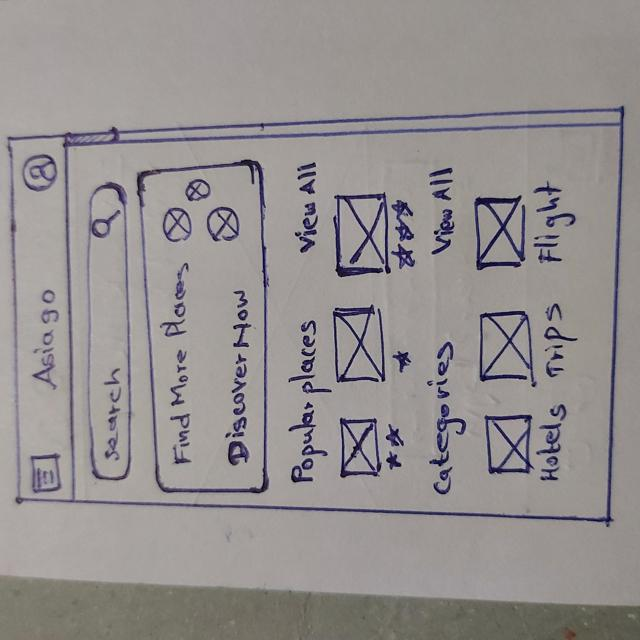ActionButton: (20, 153, 62, 191)
AppBar: (5, 136, 77, 502)
CardView: (136, 161, 269, 496)
DrawerToggleButton: (28, 453, 63, 491)
EditText: (85, 182, 135, 480)
HorizontalListView: (467, 166, 589, 507), (325, 164, 422, 501)
Icon: (20, 154, 59, 189), (89, 207, 123, 241)
Image: (336, 192, 392, 275), (333, 308, 388, 381), (480, 314, 534, 378), (477, 198, 524, 267), (487, 417, 529, 471), (340, 420, 379, 476)
ListView: (467, 167, 587, 507), (327, 166, 422, 500)
MainLayout: (6, 120, 621, 530)
RatingBar: (394, 198, 416, 271), (381, 415, 407, 471), (392, 330, 414, 378)
RoundedImage: (204, 205, 243, 242), (163, 208, 192, 244), (184, 178, 210, 201)
ScrollBar: (65, 107, 622, 146)
ScrollView: (65, 134, 609, 520)
TextView: (164, 264, 196, 465), (292, 320, 320, 483), (227, 288, 252, 466), (430, 342, 457, 499), (27, 285, 59, 390), (292, 162, 322, 256), (428, 167, 456, 261), (534, 180, 563, 266), (540, 401, 567, 491), (541, 305, 567, 385)
